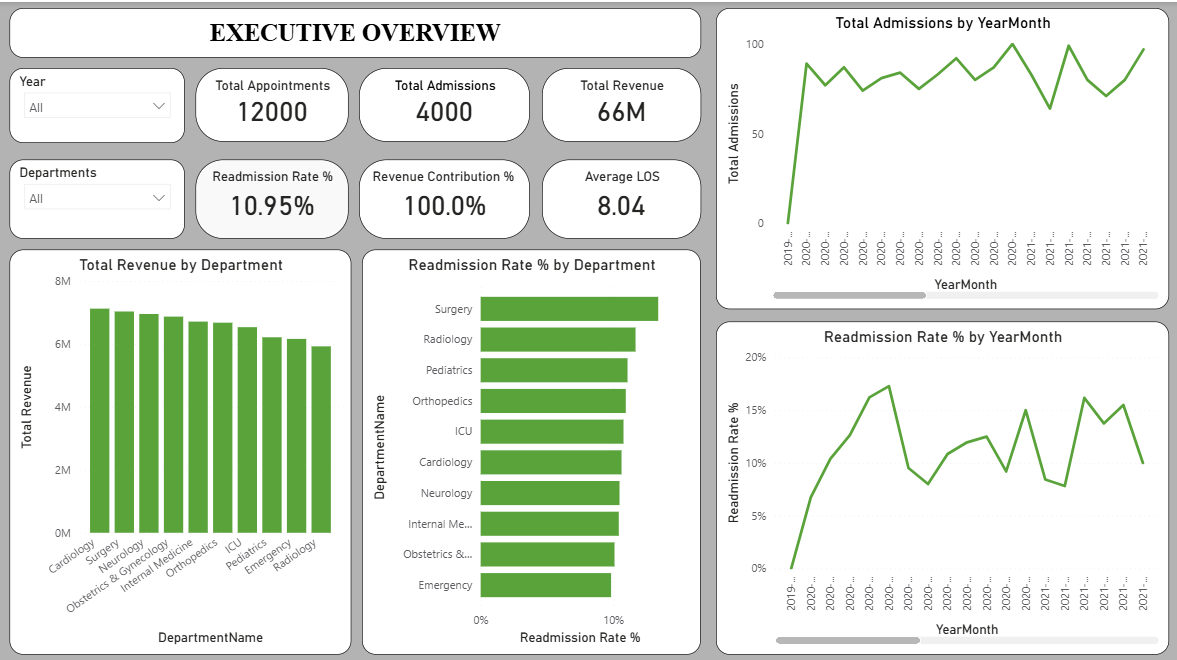

The page's visual inventory and layout, read from the dashboard file:
{"tool":"powerbi","page":{"name":"Executive Overview","canvas":[1280,720],"ordinal":0},"visuals":[{"type":"card","title":"Total Revenue","fields":{"Values":["DateTable.Total Revenue"]},"box":[588.8,71.6,172.4,79.7],"z":0},{"type":"card","title":"Total Admissions","fields":{"Values":["DateTable.Total Admissions"]},"box":[390.4,71.6,185.4,79.7],"z":1000},{"type":"card","title":"Total Appointments","fields":{"Values":["DateTable.Total Appointments"]},"box":[213.1,71.6,165.9,79.7],"z":2000},{"type":"card","title":"Average LOS","fields":{"Values":["DateTable.Average LOS"]},"box":[588.8,170.8,172.4,86.2],"z":3000},{"type":"card","title":"Readmission Rate %","fields":{"Values":["DateTable.Readmission Rate %"]},"box":[213.1,170.8,165.9,86.2],"z":4000},{"type":"lineChart","fields":{"Category":["DateTable.YearMonth"],"Y":["DateTable.Total Admissions"]},"box":[777.5,6.5,491.2,326.9],"z":5000},{"type":"columnChart","title":"Total Revenue by Department","fields":{"Category":["departments.DepartmentName"],"Y":["DateTable.Total Revenue"]},"box":[11.4,268.4,370.9,439.2],"z":6000},{"type":"lineChart","fields":{"Y":["Measure.Readmission Rate %"],"Category":["DateTable.YearMonth"]},"box":[777.5,346.5,491.2,361.1],"z":7000},{"type":"slicer","title":"Year","fields":{"Values":["DateTable.Year"]},"box":[11.4,71.6,190.3,81.3],"z":8000},{"type":"slicer","title":"Departments","fields":{"Values":["departments.DepartmentName"]},"box":[11.4,170.8,190.3,86.2],"z":9000},{"type":"clusteredBarChart","title":"Readmission Rate % by Department","fields":{"Category":["departments.DepartmentName"],"Y":["Measure.Readmission Rate %"]},"box":[393.6,268.4,367.6,439.2],"z":10000},{"type":"card","title":"Revenue Contribution %","fields":{"Values":["Measure.Revenue Contribution %"]},"box":[390.4,170.8,185.4,86.2],"z":11000},{"type":"textbox","box":[11.4,6.5,749.8,53.7],"z":12000}]}

Visuals, with their boxes in screenshot pixels (x1, y1, x2, y2), scaled from the page's 1280x720 canvas onto the 1177x660 screenshot:
"Total Revenue" card: pyautogui.locateOnScreen(541, 66, 700, 139)
"Total Admissions" card: pyautogui.locateOnScreen(359, 66, 529, 139)
"Total Appointments" card: pyautogui.locateOnScreen(196, 66, 349, 139)
"Average LOS" card: pyautogui.locateOnScreen(541, 157, 700, 236)
"Readmission Rate %" card: pyautogui.locateOnScreen(196, 157, 349, 236)
lineChart - DateTable.YearMonth x DateTable.Total Admissions: pyautogui.locateOnScreen(715, 6, 1167, 306)
"Total Revenue by Department" columnChart: pyautogui.locateOnScreen(10, 246, 352, 649)
lineChart - Measure.Readmission Rate % x DateTable.YearMonth: pyautogui.locateOnScreen(715, 318, 1167, 649)
"Year" slicer: pyautogui.locateOnScreen(10, 66, 185, 140)
"Departments" slicer: pyautogui.locateOnScreen(10, 157, 185, 236)
"Readmission Rate % by Department" clusteredBarChart: pyautogui.locateOnScreen(362, 246, 700, 649)
"Revenue Contribution %" card: pyautogui.locateOnScreen(359, 157, 529, 236)
textbox: pyautogui.locateOnScreen(10, 6, 700, 55)
